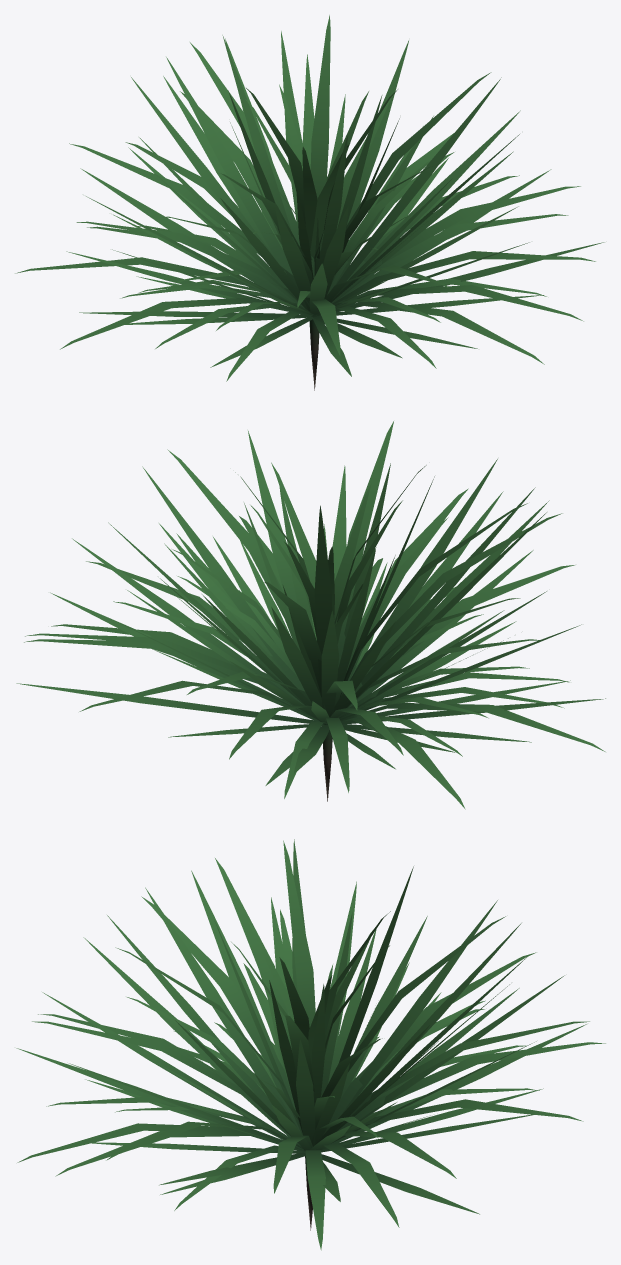
File: plants-grasses-reeds-spiky-grass_v3.fbx
3 views of the same model, one above another, from view 1: azimuth 30°, elevation 25°; view 2: azimuth 150°, elevation 25°; view 3: azimuth 270°, elevation 25° (orthographic). The views are drawn at different scales.
Parts seen in each view (by area): view 1: Spiky Grass_v3; view 2: Spiky Grass_v3; view 3: Spiky Grass_v3.
Boxes of the visible parts, x1,y1,x2,y2 form: Spiky Grass_v3: (15,15,604,390); Spiky Grass_v3: (16,421,605,809); Spiky Grass_v3: (16,839,605,1250).
Size of the model in its own units: 0.6 by 0.3686 by 0.5676.
